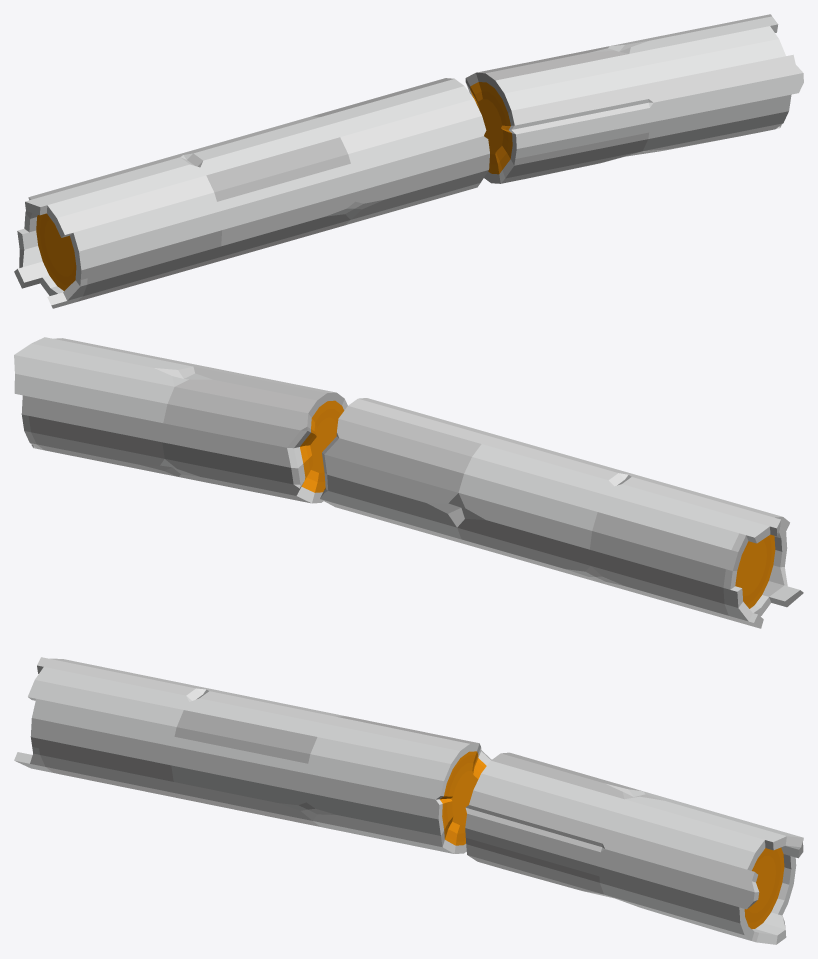
The model's file is Broken log_15.fbx.
The picture shows the model from 3 angles, top to bottom: view 1: azimuth 30°, elevation 25°; view 2: azimuth 150°, elevation 25°; view 3: azimuth 330°, elevation 25°; orthographic projection.
Parts seen in each view (by area): view 1: Circle.204, Circle.207; view 2: Circle.204, Circle.207; view 3: Circle.204, Circle.207.
Part boxes in pixels (x1,y1,x2,y2): Circle.204: [14, 78, 489, 308]; Circle.207: [465, 14, 803, 183]; Circle.204: [320, 398, 803, 628]; Circle.207: [14, 337, 347, 503]; Circle.204: [14, 657, 491, 853]; Circle.207: [465, 752, 803, 944].
Bounding box in the file's own units: 180 × 27.07 × 23.56.
